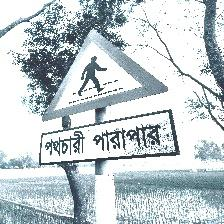Pedestrian-crossing: (38, 30, 178, 165)
